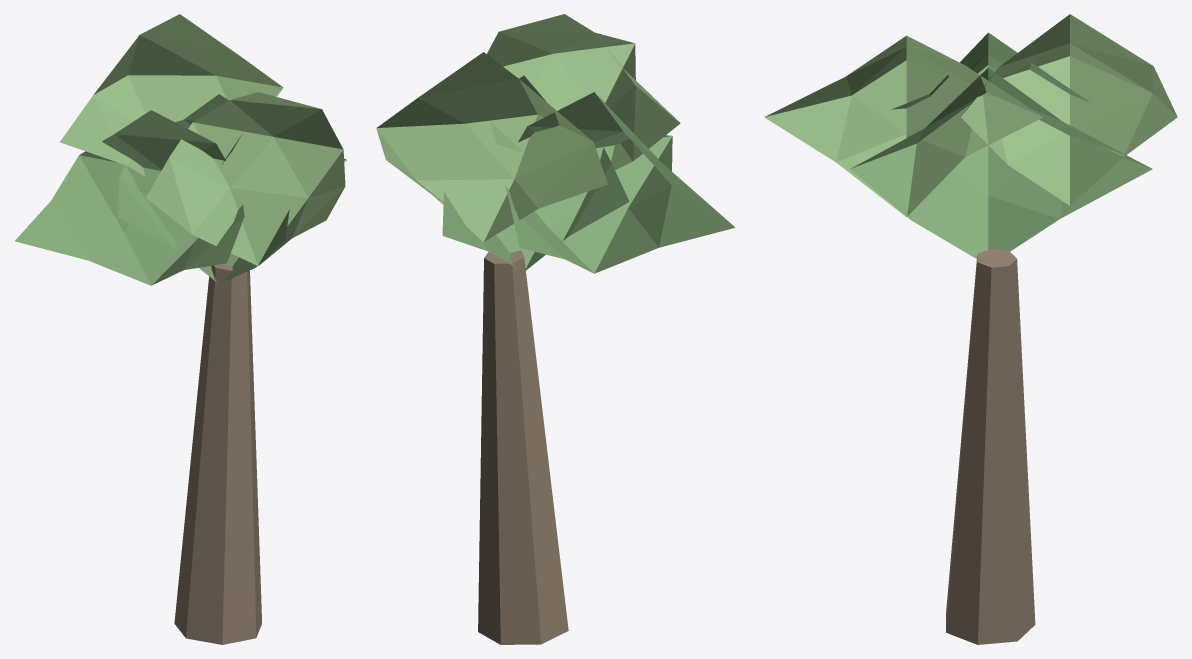
File: broadleaf_v18.glb
3 renders of one model, left to right at view 1: azimuth 30°, elevation 25°; view 2: azimuth 150°, elevation 25°; view 3: azimuth 270°, elevation 25°, orthographic. The views are drawn at different scales.
Visible parts, largest first — view 1: lod0; view 2: lod0; view 3: lod0.
Part boxes in pixels (<box>): lod0: <box>15,14,346,644</box>; lod0: <box>376,14,735,644</box>; lod0: <box>764,14,1177,644</box>.
Size of what is drawn, in the model's own units: 3.07 by 5.16 by 3.16.
